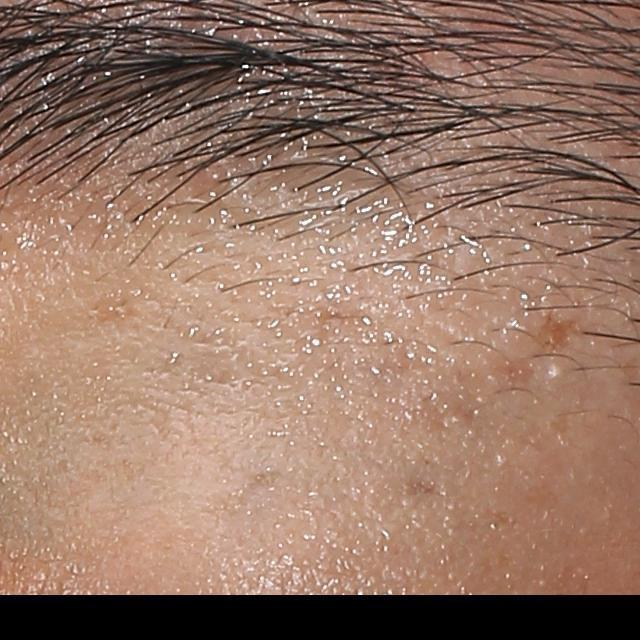melasma: (416, 334, 538, 462), (518, 306, 590, 354), (398, 470, 460, 512)
